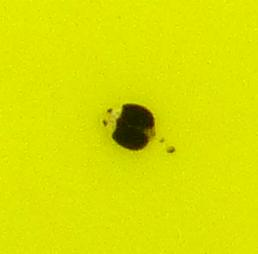Coleoptera: (100, 100, 158, 154)
